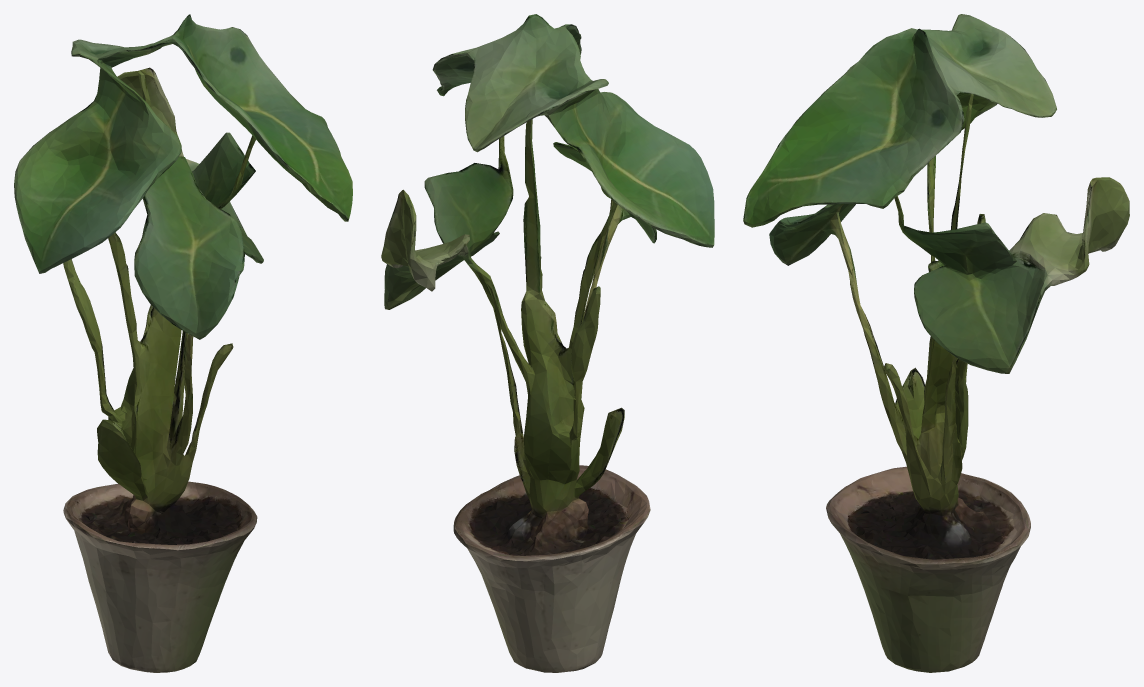
Rendered from ast_3ae34f96cd4e.glb.
The picture shows the model from 3 angles, left to right: view 1: azimuth 30°, elevation 25°; view 2: azimuth 150°, elevation 25°; view 3: azimuth 270°, elevation 25°; orthographic projection.
Visible parts, largest first — view 1: geometry_0; view 2: geometry_0; view 3: geometry_0.
Boxes of the visible parts, bbox=[...] form: geometry_0: bbox=[14, 14, 352, 672]; geometry_0: bbox=[381, 14, 714, 672]; geometry_0: bbox=[743, 14, 1129, 672].
Bounding box in the file's own units: 0.4637 × 0.9985 × 0.547.
Materials: 1 (1 with a texture image).
